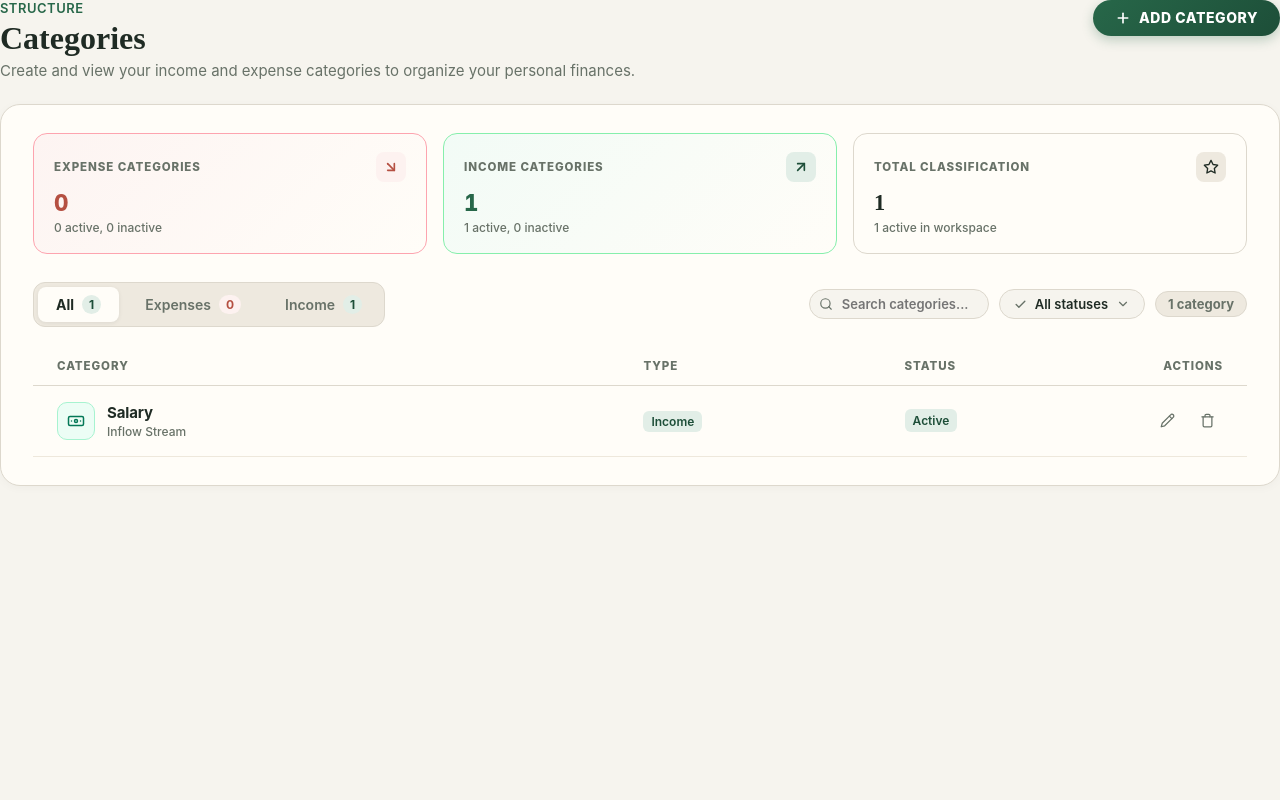
Test: CategoriesView › opens DeactivateCategoryModal when Deactivate button is clicked
This screenshot has width=1280, height=800.
Click the button named "Deactivate Salary".
click(1207, 421)  # box x1=1191 y1=405 x2=1223 y2=437
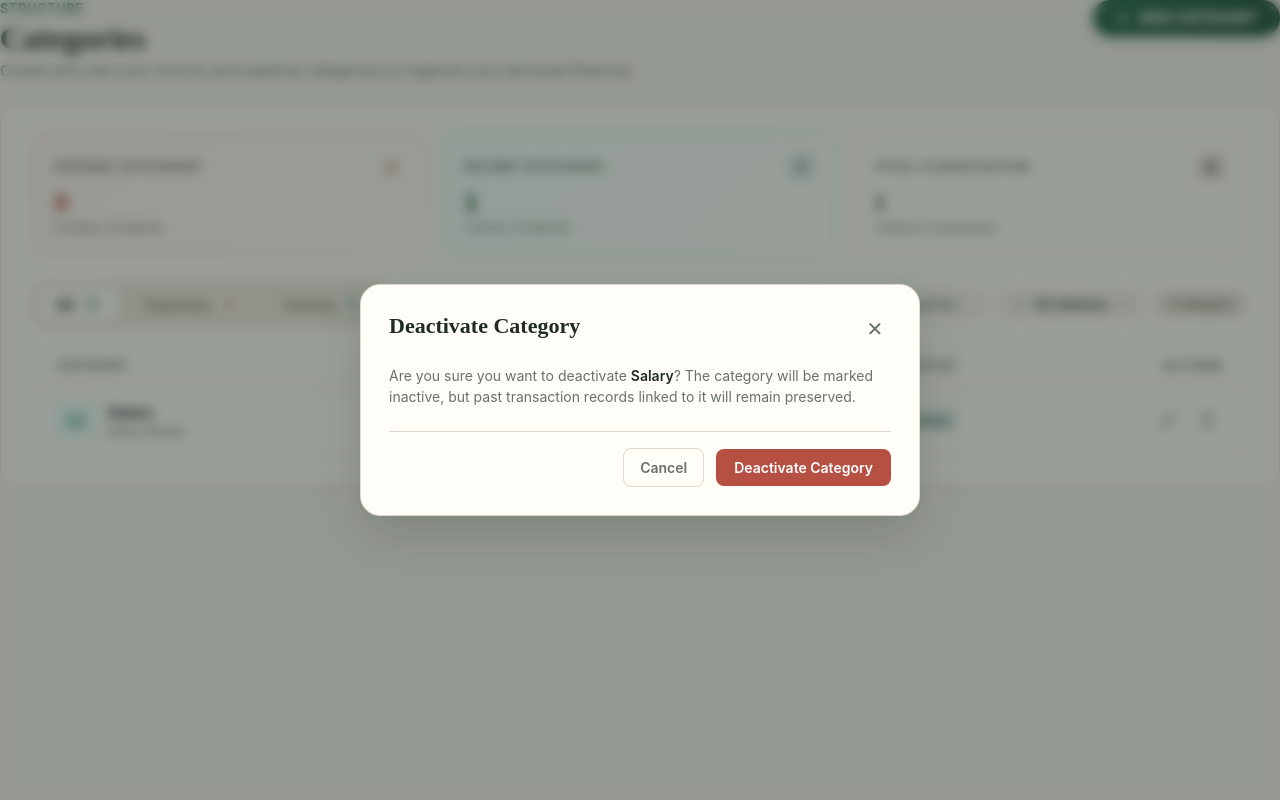
Expected: the dialog with test id "deactivate-category-modal" is shown, x1=360 y1=284 x2=920 y2=516
Expected: the heading "Deactivate Category" is shown, x1=389 y1=313 x2=580 y2=339
